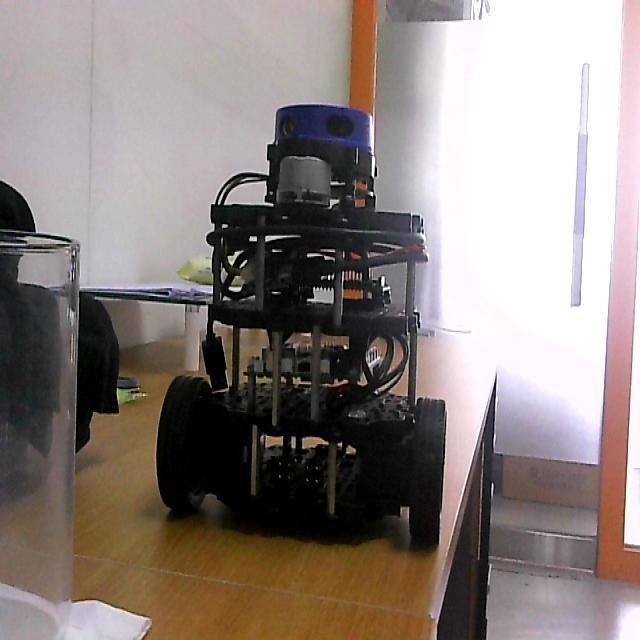turtle: (155, 103, 448, 557)
